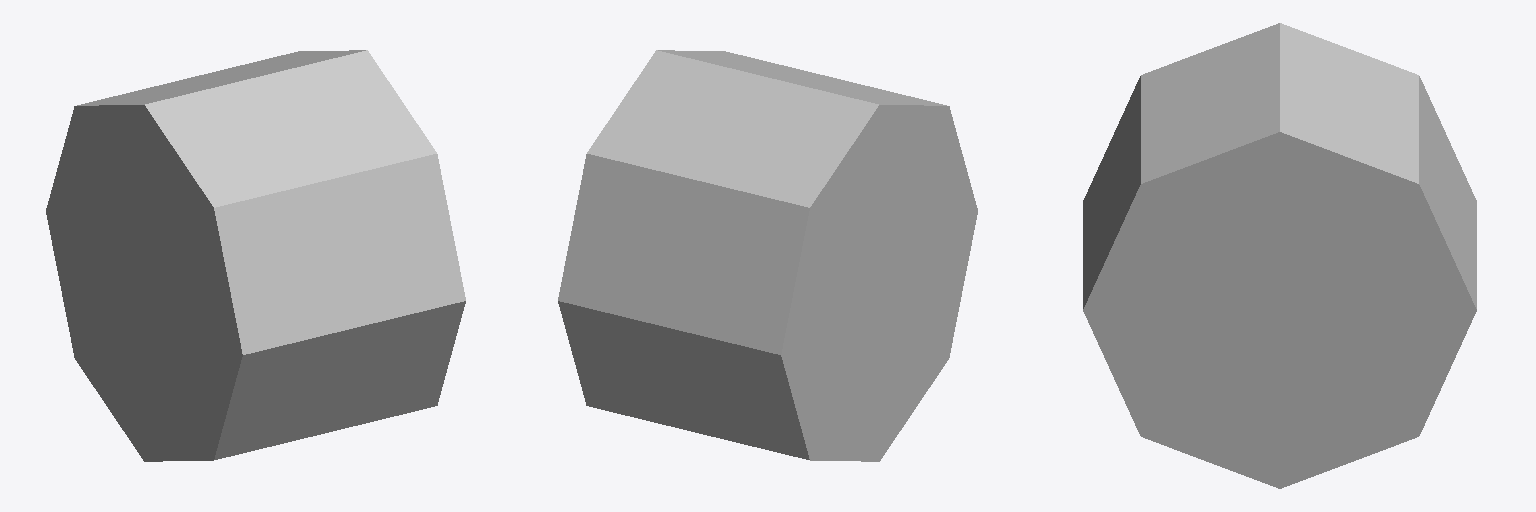
File: WheelRearR.obj
3 renders of one model, left to right at view 1: azimuth 30°, elevation 25°; view 2: azimuth 150°, elevation 25°; view 3: azimuth 270°, elevation 25°, orthographic.
Visible parts, largest first — view 1: WheelRearR; view 2: WheelRearR; view 3: WheelRearR.
Part boxes in pixels (bbox=[...]): WheelRearR: bbox=[46, 50, 465, 461]; WheelRearR: bbox=[558, 50, 977, 461]; WheelRearR: bbox=[1083, 23, 1476, 488].
Bounding box in the file's own units: 0.9642 × 1.47 × 1.47.